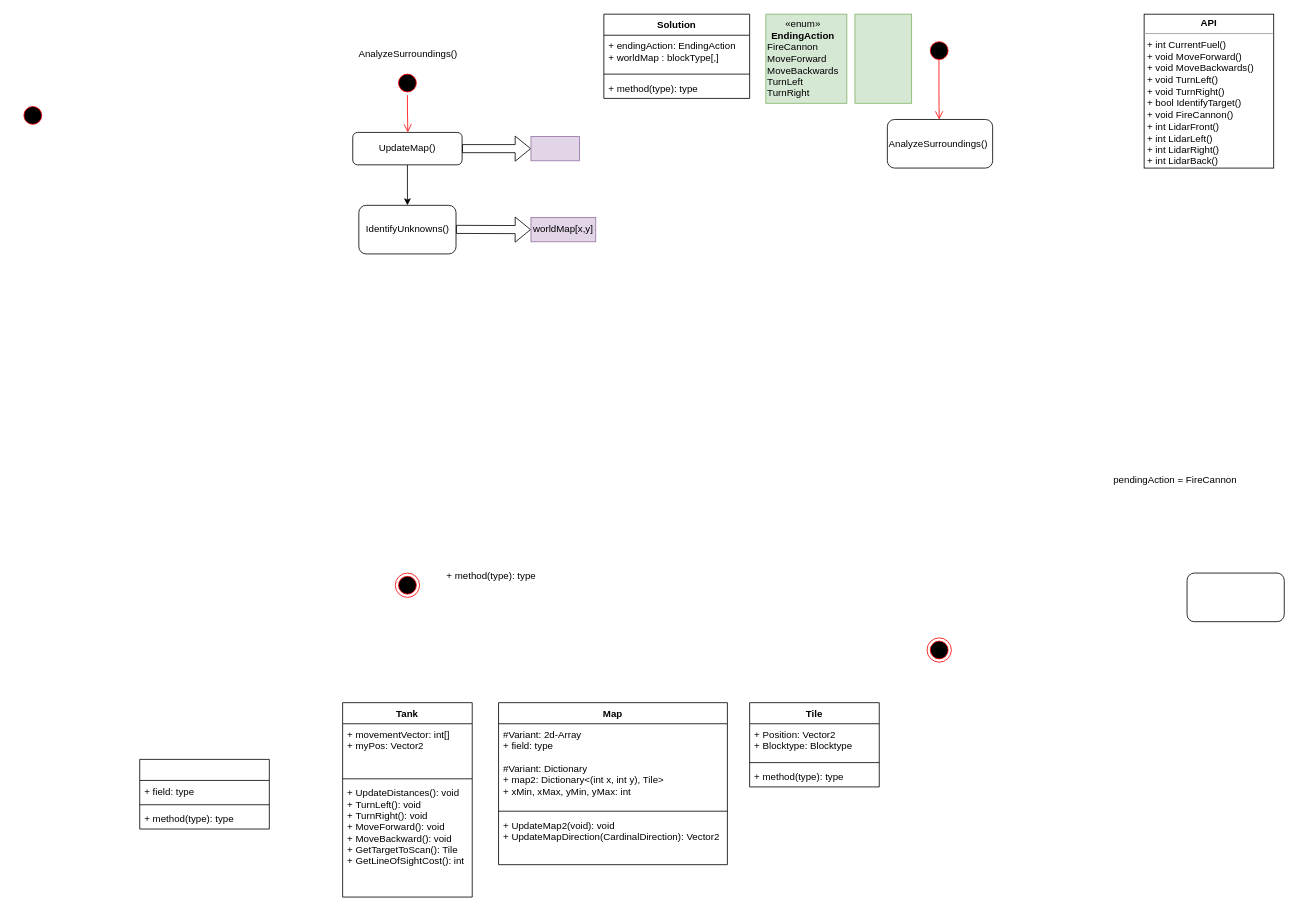
The diagram is 1298 pixels wide and 914 high, and some of its shapes have lost their labels. Here are the shapes that lost their labels. From the top down, the box of each, then its label:
(854, 13, 912, 103): «enum» blockType Unknown Floor Wall Enemy
(20, 102, 45, 128): Update()
(530, 136, 580, 161): worldMap
(1186, 572, 1284, 622): FindAndDestroy();
(139, 759, 269, 829): Classname
